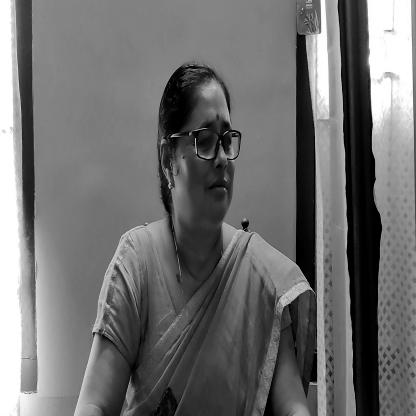Distracted: (159, 58, 246, 240)
